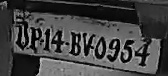0: (94, 35, 107, 60)
1: (44, 28, 51, 53)
4: (135, 41, 152, 69), (50, 30, 64, 54)
5: (120, 38, 134, 65)
9: (108, 38, 120, 64)
B: (15, 19, 29, 52), (69, 29, 82, 57)
P: (30, 26, 43, 55)
V: (81, 31, 94, 58)
